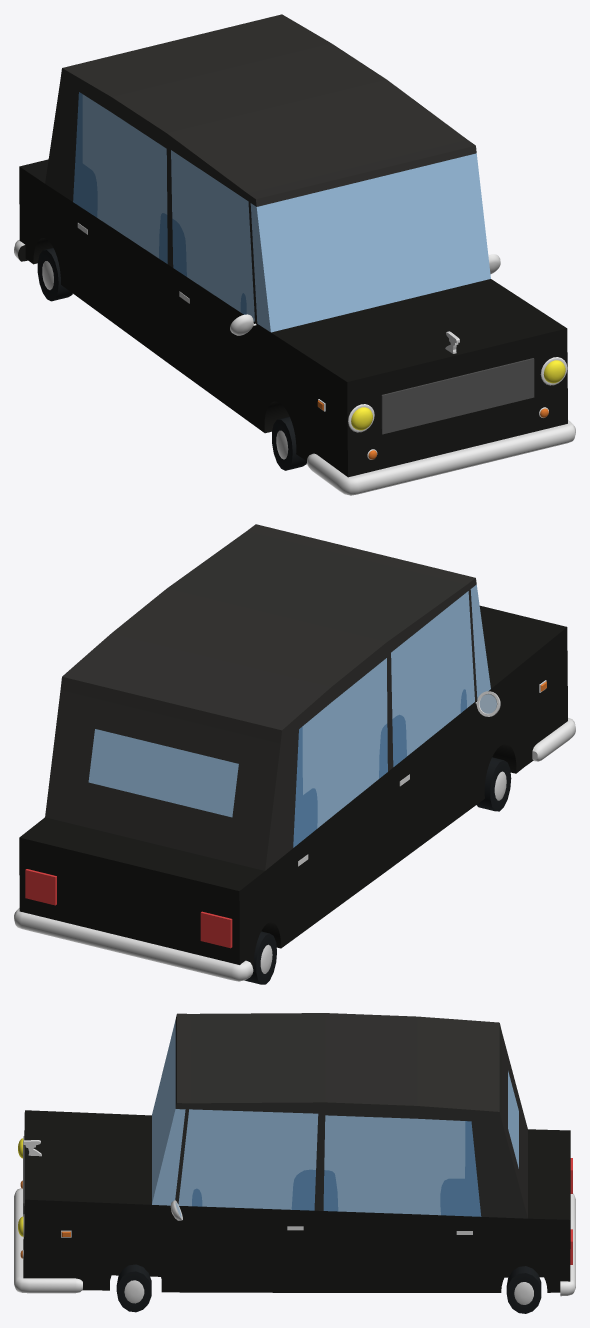
The model's file is lemusin.glb.
The picture shows the model from 3 angles, top to bottom: view 1: azimuth 30°, elevation 25°; view 2: azimuth 150°, elevation 25°; view 3: azimuth 270°, elevation 25°; orthographic projection. The views are drawn at different scales.
Parts seen in each view (by area): view 1: black_lemusine; view 2: black_lemusine; view 3: black_lemusine.
Part boxes in pixels (x1,y1,x2,y2): black_lemusine: [14, 14, 575, 495]; black_lemusine: [14, 524, 575, 984]; black_lemusine: [14, 1013, 575, 1313].
Size of the model in its own units: 2.47 by 2.23 by 5.36.
